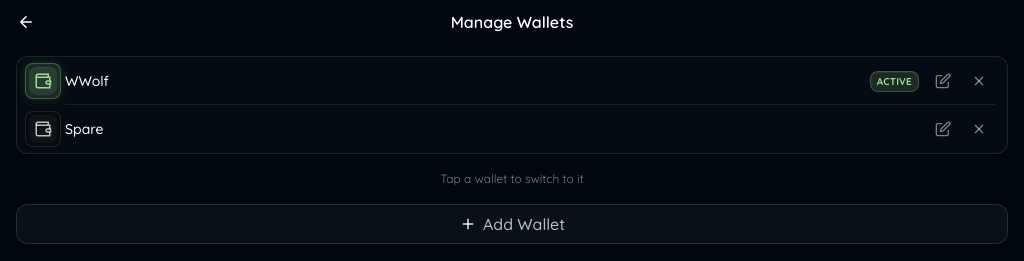
Test: ManageWalletsView rename › drops the edit on Escape without renaming
Click the 1st button titled "Rename wallet": click(943, 81) 927,65 -> 959,97
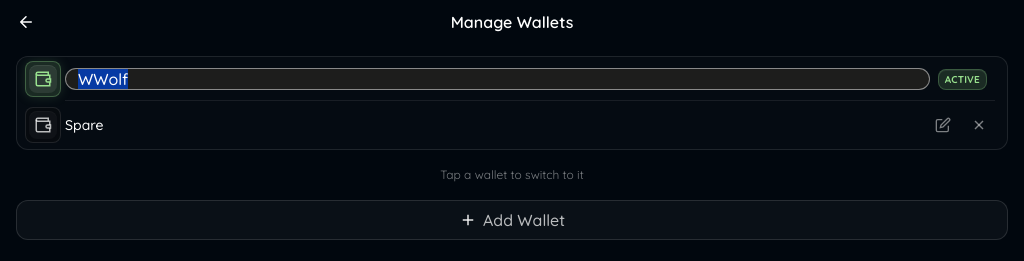
Replace the text in the field with class "rename-input" with "Discarded": (497, 79) 65,68 -> 930,90
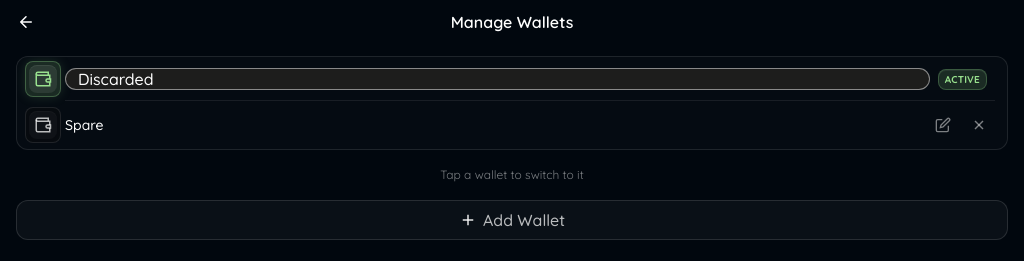
Press Escape in the field with class "rename-input", box 65,68 -> 930,90
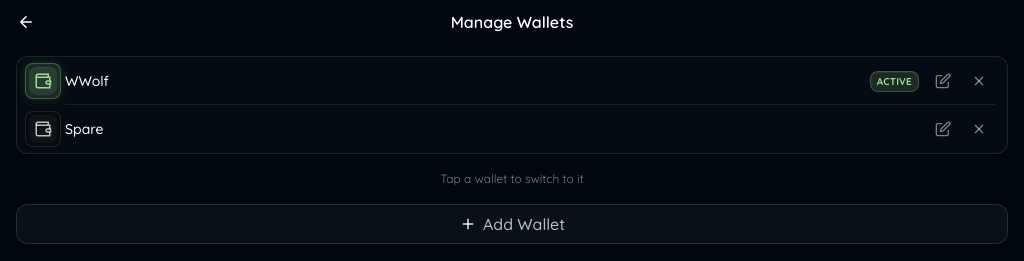
Check: the text "WWolf" is shown, box 65,72 -> 109,90
